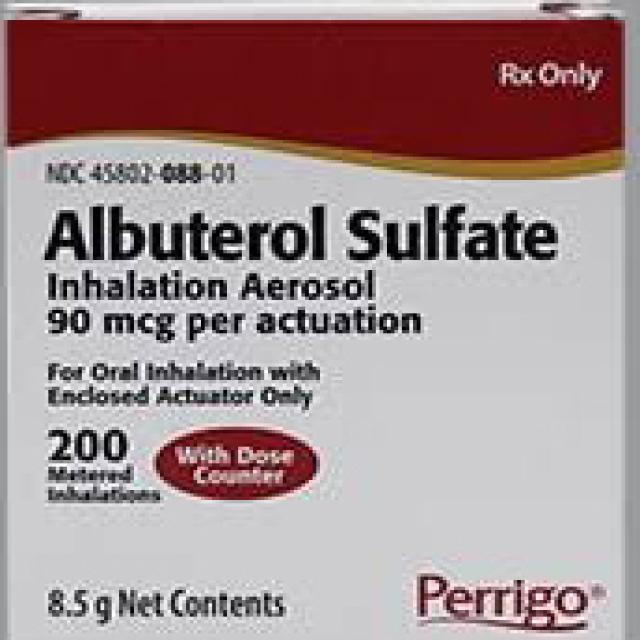drug-name: (411, 563, 601, 640)
